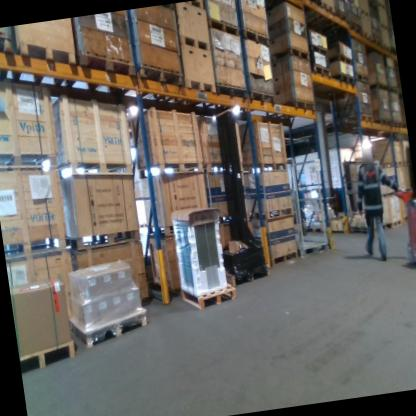pallet: (67, 308, 153, 352), (60, 217, 143, 255), (74, 41, 138, 85), (11, 33, 78, 75), (56, 150, 136, 185), (18, 335, 81, 379), (136, 152, 202, 188), (179, 277, 239, 315), (134, 57, 186, 95), (0, 145, 60, 176), (3, 232, 66, 260), (266, 41, 311, 66), (275, 93, 317, 118), (245, 204, 294, 225), (183, 73, 219, 99), (208, 12, 240, 40), (239, 24, 272, 51), (177, 32, 211, 58), (215, 80, 249, 102), (242, 158, 287, 174), (247, 87, 278, 109), (338, 110, 375, 128), (202, 158, 240, 174), (269, 250, 299, 269), (307, 59, 333, 80), (346, 222, 379, 238), (326, 51, 353, 70), (331, 71, 356, 90), (0, 26, 16, 55), (370, 113, 393, 132), (367, 78, 389, 94), (319, 0, 338, 18), (377, 156, 401, 169), (348, 17, 363, 37), (301, 222, 323, 234), (353, 71, 370, 86), (337, 8, 351, 26), (387, 80, 401, 97), (361, 25, 374, 42), (373, 0, 387, 12), (371, 36, 384, 48), (392, 119, 404, 132), (358, 6, 370, 19), (378, 220, 391, 231), (303, 0, 322, 7), (381, 42, 392, 54), (390, 218, 402, 227), (379, 21, 389, 31)
pallet_truck: (391, 183, 416, 272)
small_load_carrier: (308, 41, 328, 58)
